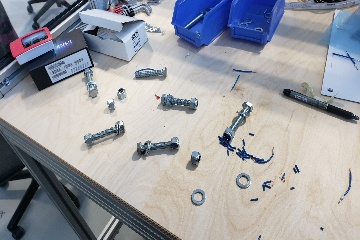Bolt: (132, 65, 169, 82)
FalseAssembly: (219, 97, 255, 142), (157, 88, 201, 110)
FinishedAssembly: (81, 119, 129, 147), (134, 135, 183, 160), (83, 64, 99, 100)
Nut: (189, 149, 204, 168), (104, 97, 116, 112), (115, 87, 127, 100)
Washer: (187, 188, 209, 207), (234, 169, 252, 189)
